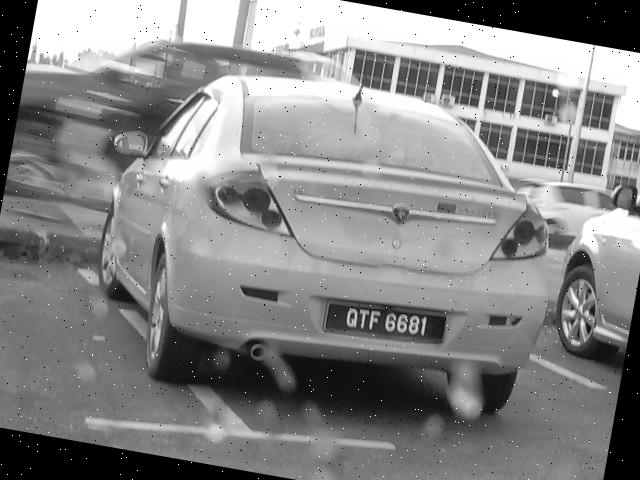License_Plate: (322, 293, 450, 353)
car: (60, 43, 571, 445)
